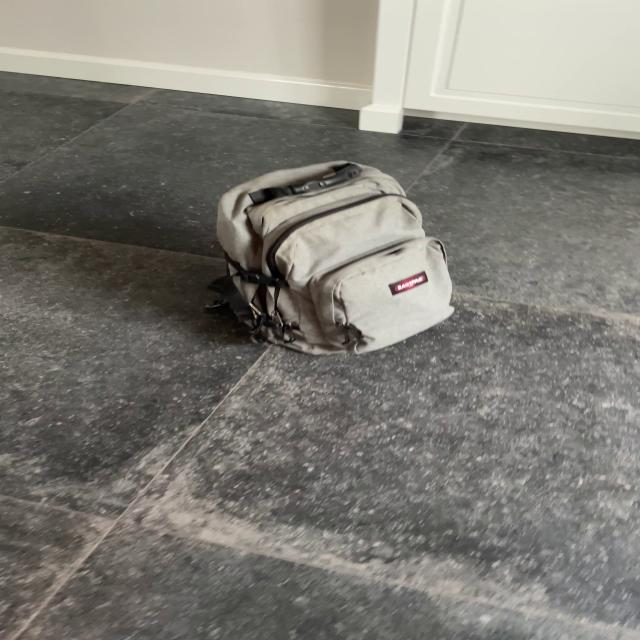backpack: (197, 155, 463, 360)
